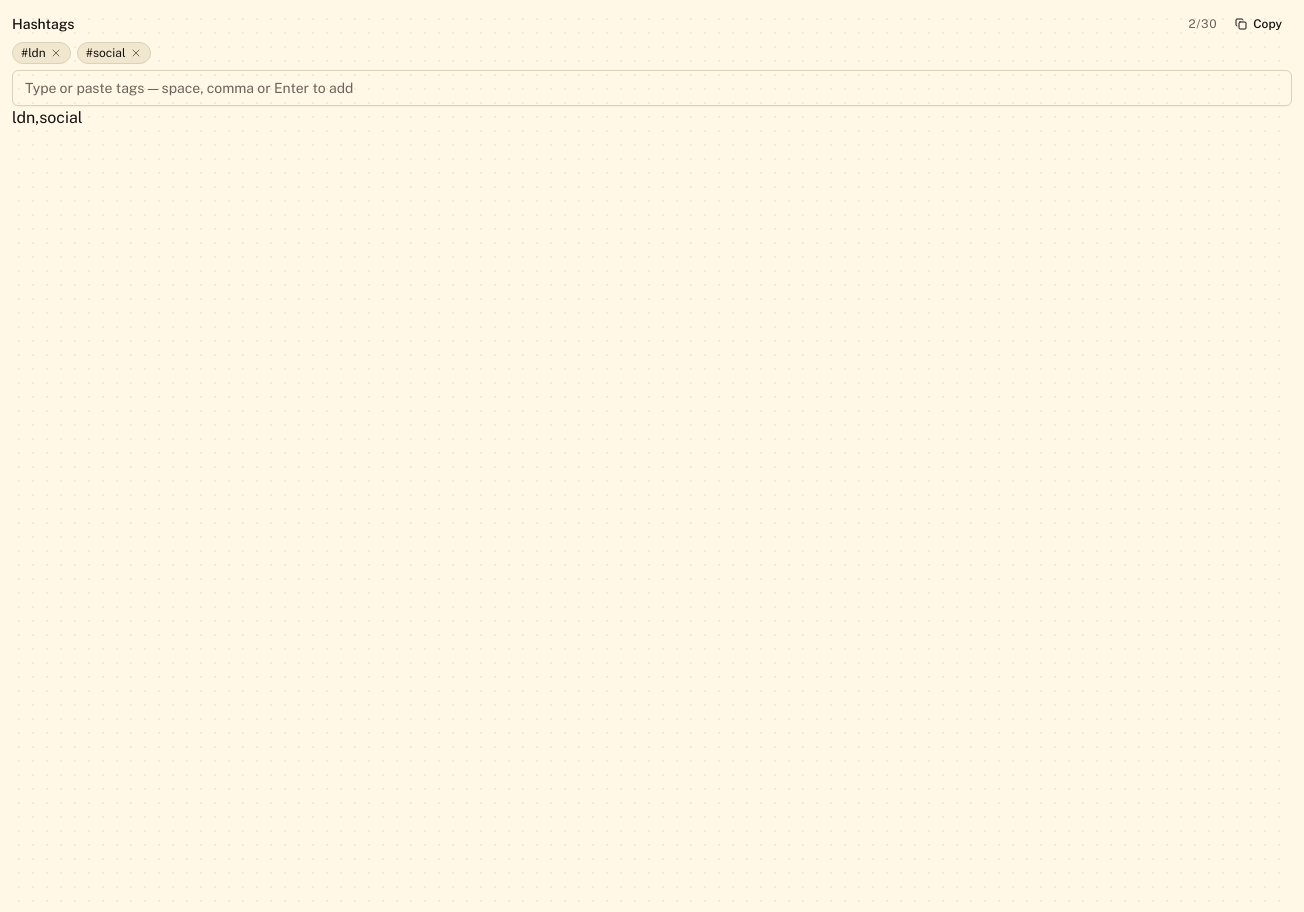
Test: HashtagEditor › copies without navigator.clipboard, as it must over plain HTTP
Click the button "Copy" at (1259,24), box [1225,12,1292,36]
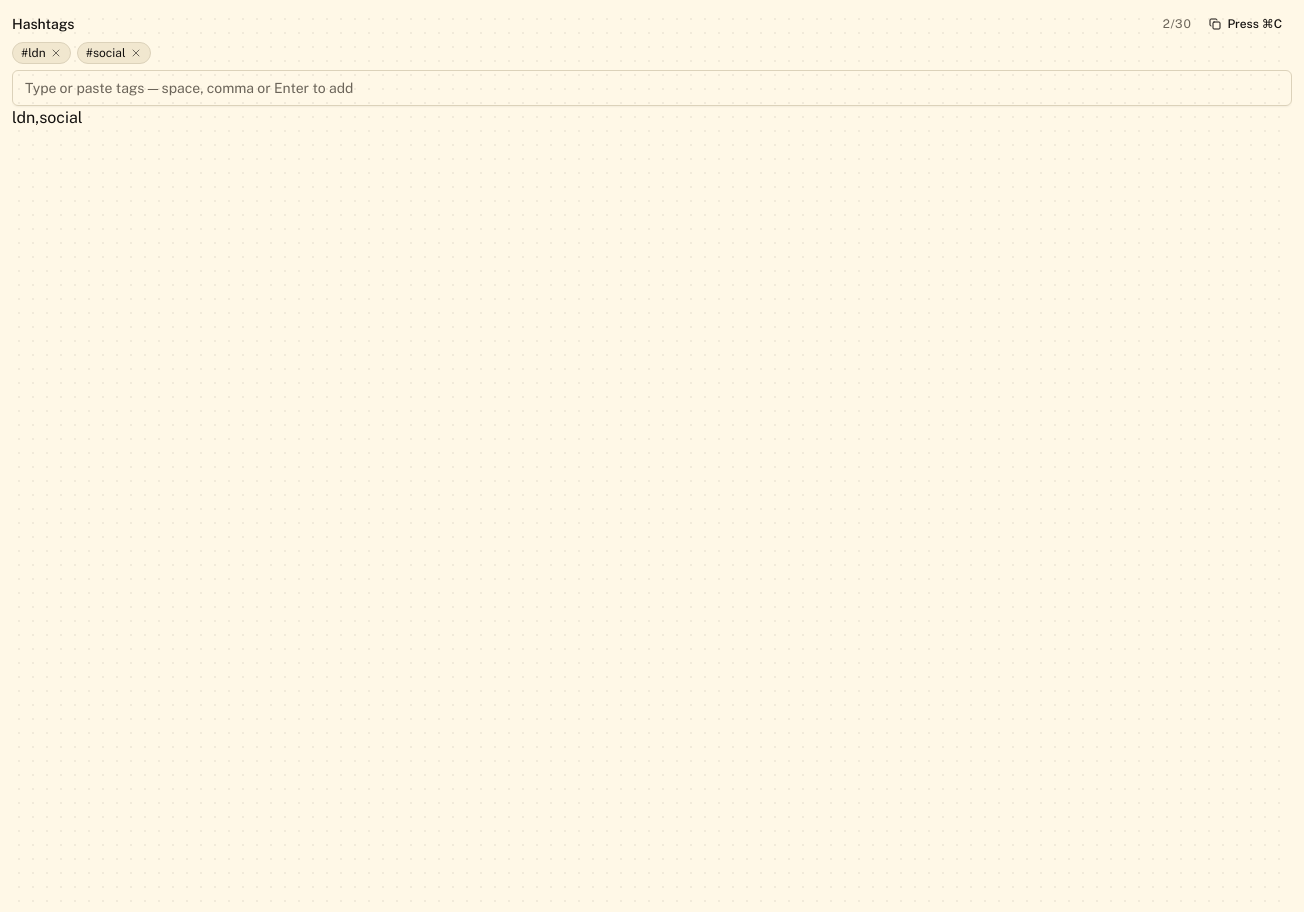
Now the button "Press ⌘C" is shown, box [1199,12,1292,36]
